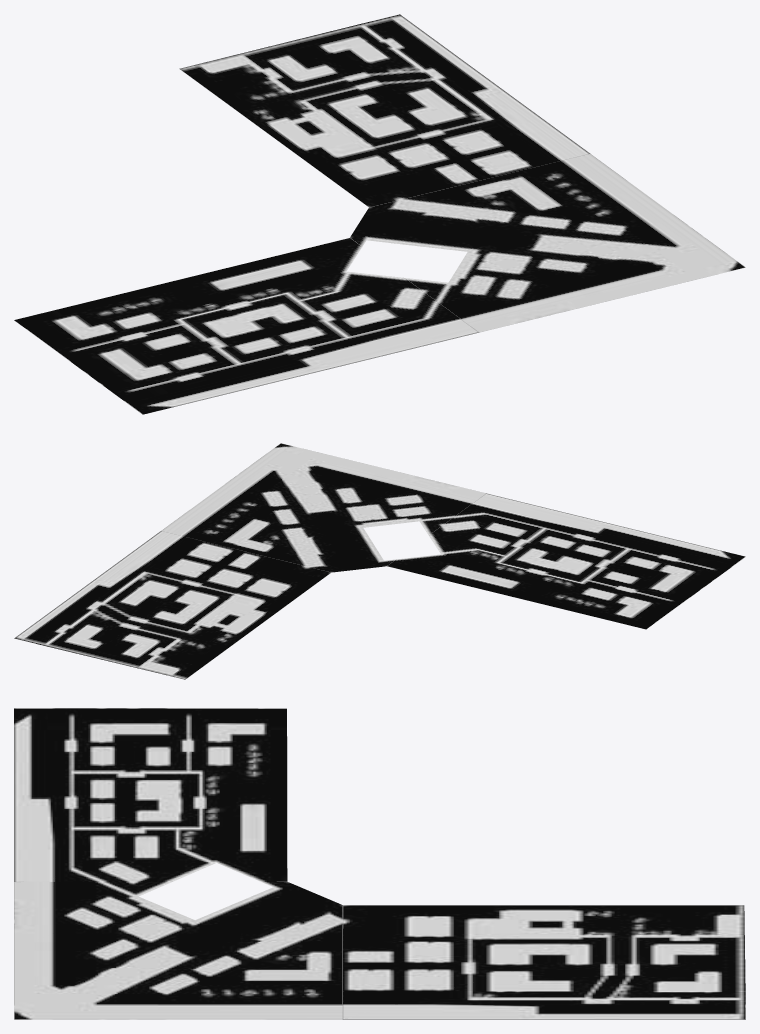
The picture shows the model from 3 angles, top to bottom: view 1: azimuth 30°, elevation 25°; view 2: azimuth 150°, elevation 25°; view 3: azimuth 270°, elevation 25°; orthographic projection. The views are drawn at different scales.
Visible parts, largest first — view 1: sd001; view 2: sd001; view 3: sd001.
Part boxes in pixels (x1=…): sd001: x1=14, y1=14, x2=745, y2=414; sd001: x1=14, y1=443, x2=745, y2=679; sd001: x1=14, y1=708, x2=745, y2=1019.
Bounding box in the file's own units: 3743 × 0.8722 × 3719.
